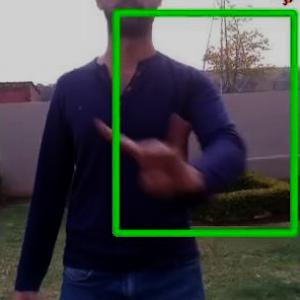takeoff-hand: (92, 106, 196, 202)
